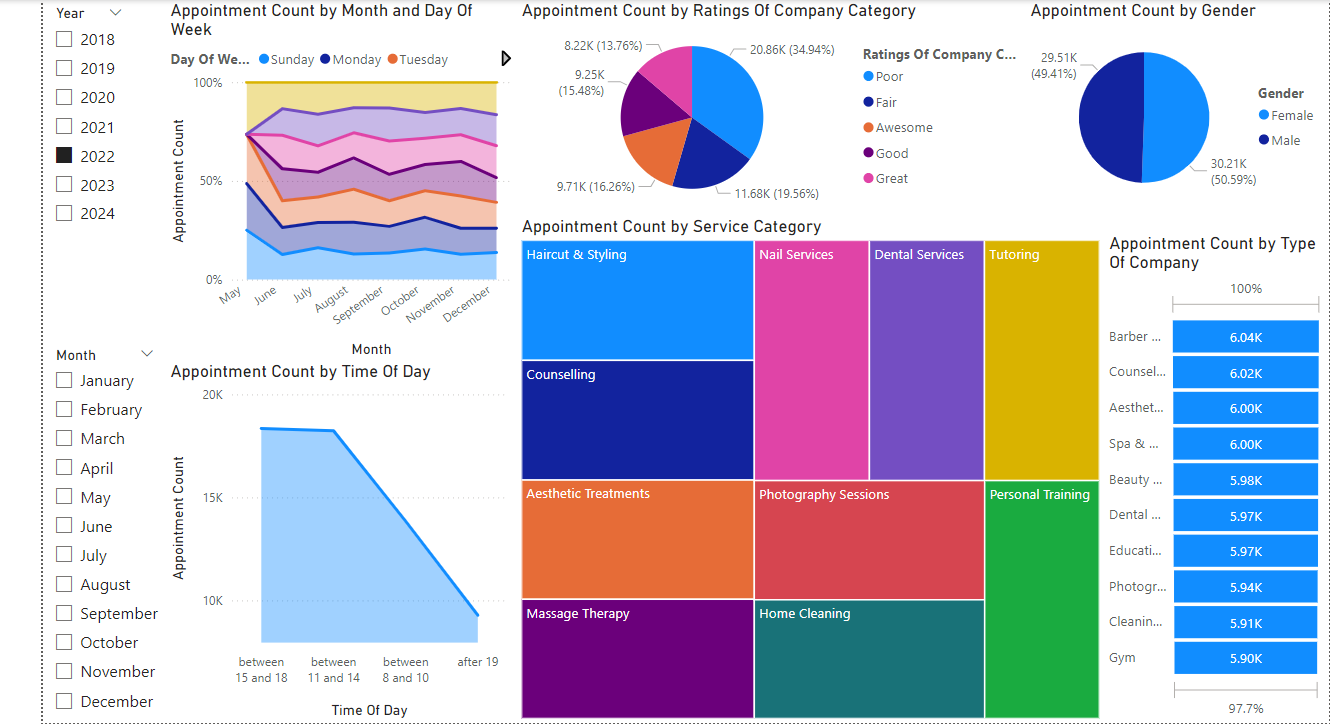

Layout of this report page (visuals, bound fields, positions):
{"tool":"powerbi","page":{"name":"Dashboard","canvas":[1280,720],"ordinal":9},"visuals":[{"type":"treemap","fields":{"Values":["Appointment.Appointment Count"],"Group":["Service Type.Service Category"]},"box":[471.2,215,585,505],"z":0},{"type":"areaChart","fields":{"Y":["Appointment.Appointment Count"],"Category":["Time.Time Of Day"]},"box":[122.5,360,348.8,360],"z":1000},{"type":"pieChart","fields":{"Y":["Appointment.Appointment Count"],"Category":["Customer.Gender"]},"box":[977.5,0,302.5,215],"z":2000},{"type":"hundredPercentStackedAreaChart","fields":{"Category":["Date.Month"],"Y":["Appointment.Appointment Count"],"Series":["Date.Day Of Week"]},"box":[122.5,0,348.8,360],"z":3000},{"type":"slicer","fields":{"Values":["Date.Year"]},"box":[0,0,91.2,231.2],"z":4000},{"type":"slicer","fields":{"Values":["Date.Month"]},"box":[0,340,122.5,380],"z":5000},{"type":"pieChart","fields":{"Category":["Company.Ratings Of Company Category"],"Y":["Appointment.Appointment Count"]},"box":[471.2,0,506.2,215],"z":6000},{"type":"funnel","fields":{"Y":["Appointment.Appointment Count"],"Category":["Company.Type Of Company"]},"box":[1056.2,231.2,223.8,488.8],"z":7000}]}

Visuals, with their boxes on the page's 1280x720 design canvas (x1, y1, x2, y2). These are canvas units, not pixel positions in the 1330x724 screenshot, which may show the page scaled, cropped or inside an application window:
treemap - Appointment.Appointment Count x Service Type.Service Category: 471 215 1056 720
areaChart - Appointment.Appointment Count x Time.Time Of Day: 122 360 471 720
pieChart - Appointment.Appointment Count x Customer.Gender: 978 0 1280 215
hundredPercentStackedAreaChart - Date.Month x Appointment.Appointment Count: 122 0 471 360
slicer - Date.Year: 0 0 91 231
slicer - Date.Month: 0 340 122 720
pieChart - Company.Ratings Of Company Category x Appointment.Appointment Count: 471 0 977 215
funnel - Appointment.Appointment Count x Company.Type Of Company: 1056 231 1280 720
